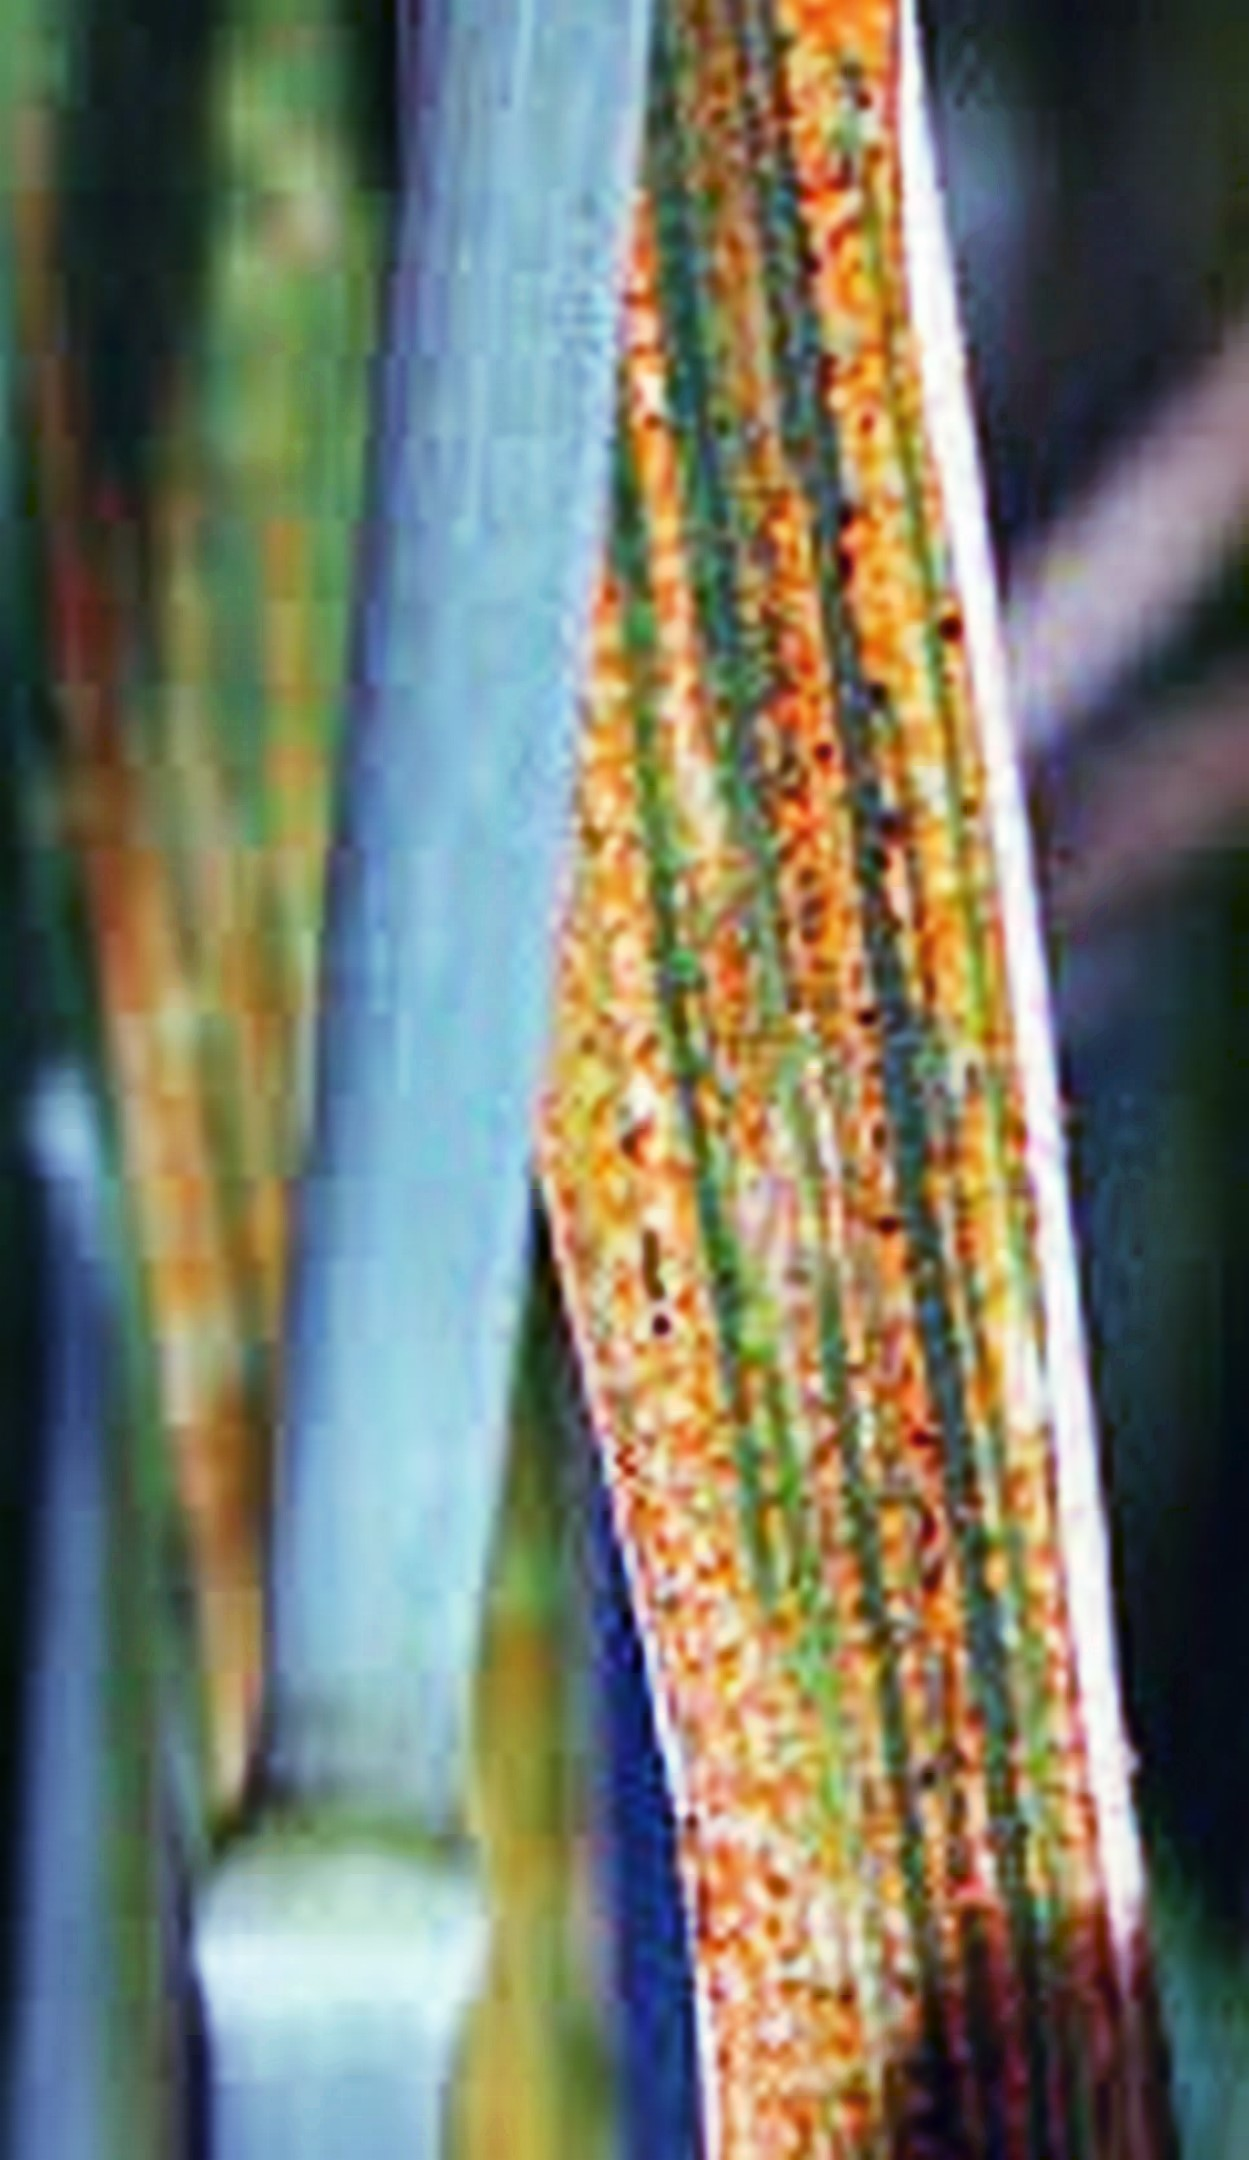Leaf Rust: (567, 259, 1143, 2069)
